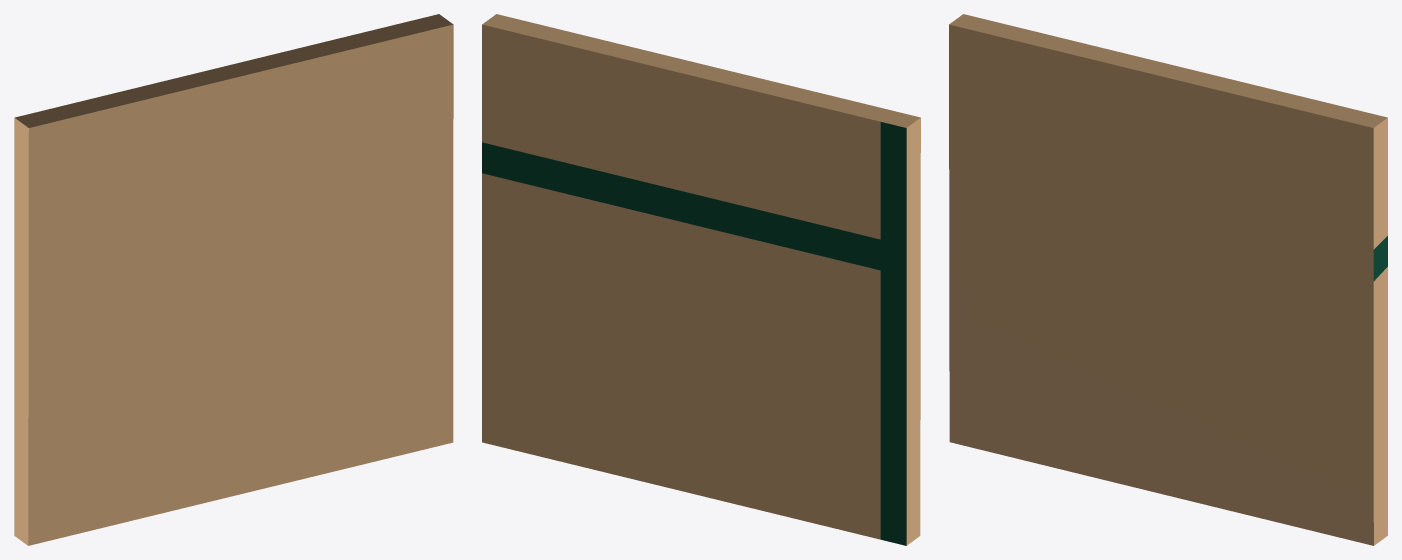
The model's file is Wall 6.fbx.
3 views of the same model, side by side, from view 1: azimuth 30°, elevation 25°; view 2: azimuth 150°, elevation 25°; view 3: azimuth 330°, elevation 25° (orthographic).
Visible parts, largest first — view 1: Wall 6; view 2: Wall 6; view 3: Wall 6.
Part boxes in pixels (x1,y1,x2,y2): Wall 6: (14,14,453,545); Wall 6: (482,14,920,545); Wall 6: (949,14,1387,545).
Size of the model in its own units: 0.3005 by 4.83 by 5.13.
